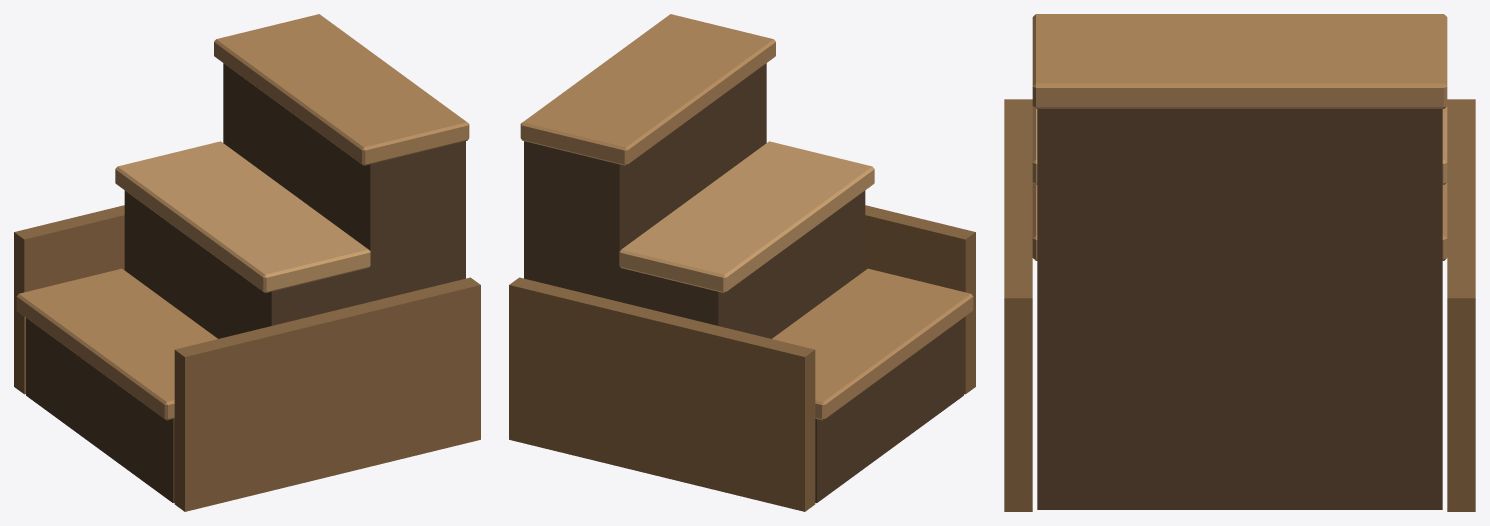
Rendered from escalier_bois.glb.
The picture shows the model from 3 angles, left to right: view 1: azimuth 30°, elevation 25°; view 2: azimuth 150°, elevation 25°; view 3: azimuth 270°, elevation 25°; orthographic projection. The views are drawn at different scales.
Parts seen in each view (by area): view 1: escalier_bois_planche_sombre.002, escalier_bois_bois_sombre.002, escalier_bois_planche.002, escalier_bois_planche_claire.002; view 2: escalier_bois_planche_sombre.002, escalier_bois_bois_sombre.002, escalier_bois_planche.002, escalier_bois_planche_claire.002; view 3: escalier_bois_bois_sombre.002, escalier_bois_planche.002, escalier_bois_planche_sombre.002, escalier_bois_planche_claire.002.
Part boxes in pixels (bbox=[...]): escalier_bois_planche_sombre.002: bbox=[14, 205, 480, 511]; escalier_bois_bois_sombre.002: bbox=[26, 63, 465, 502]; escalier_bois_planche.002: bbox=[16, 14, 469, 420]; escalier_bois_planche_claire.002: bbox=[115, 141, 370, 293]; escalier_bois_planche_sombre.002: bbox=[509, 205, 975, 511]; escalier_bois_bois_sombre.002: bbox=[524, 63, 963, 502]; escalier_bois_planche.002: bbox=[520, 14, 973, 420]; escalier_bois_planche_claire.002: bbox=[619, 141, 874, 293]; escalier_bois_bois_sombre.002: bbox=[1037, 109, 1442, 509]; escalier_bois_planche.002: bbox=[1032, 14, 1447, 260]; escalier_bois_planche_sombre.002: bbox=[1004, 99, 1475, 511]; escalier_bois_planche_claire.002: bbox=[1032, 106, 1447, 184].
Size of the model in its own units: 0.515 by 0.5 by 0.5.
